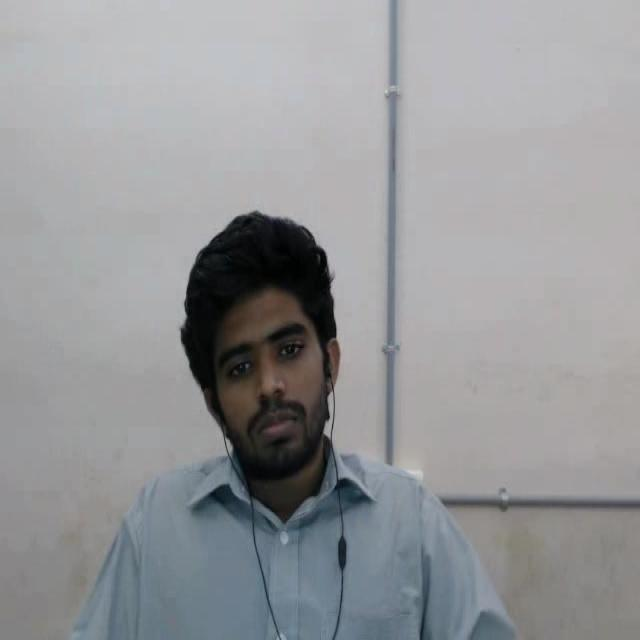Engaged: (146, 194, 397, 505)
